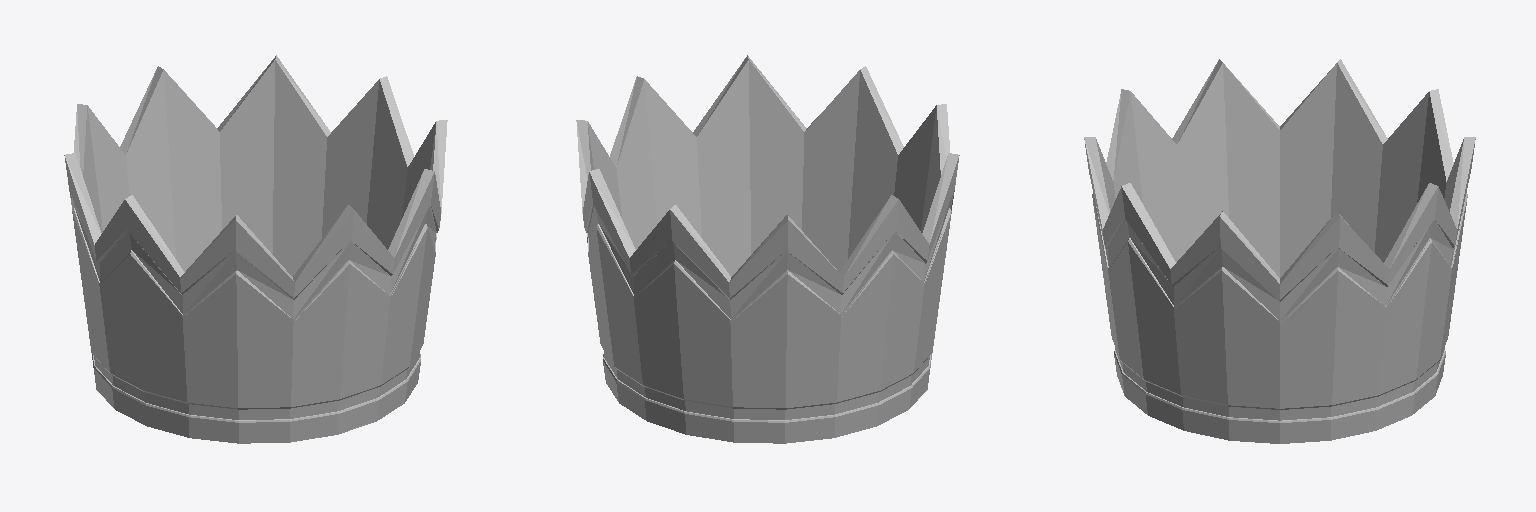
File: Fall Guys Crown.obj
3 views of the same model, side by side, from view 1: azimuth 30°, elevation 25°; view 2: azimuth 150°, elevation 25°; view 3: azimuth 270°, elevation 25° (orthographic).
Visible parts, largest first — view 1: Cylinder; view 2: Cylinder; view 3: Cylinder.
Boxes of the visible parts, x1,y1,x2,y2 form: Cylinder: [64, 55, 447, 443]; Cylinder: [576, 55, 959, 443]; Cylinder: [1084, 59, 1475, 443].
Bounding box in the file's own units: 3.08 × 2.17 × 3.24.